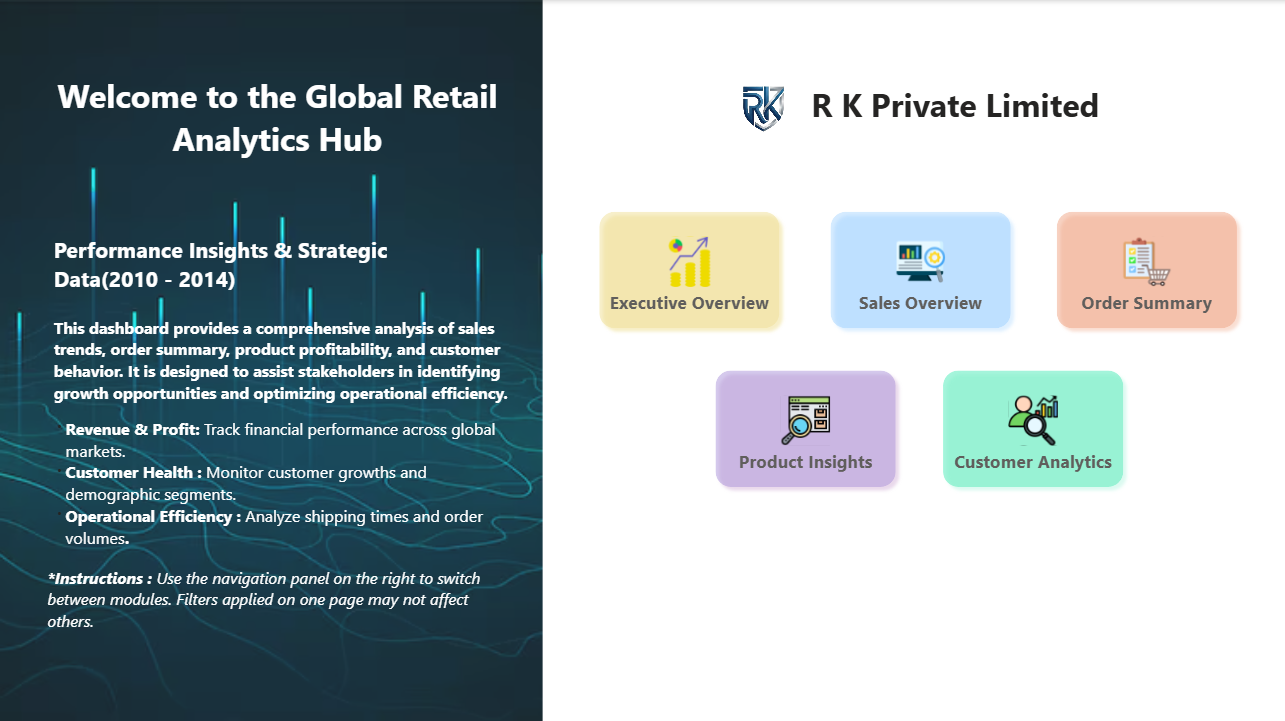

This screenshot's page, from the dashboard's own definition file:
{"tool":"powerbi","page":{"name":"Home","canvas":[1280,720],"ordinal":0},"visuals":[{"type":"image","box":[0,0,539.9,720.3],"z":0},{"type":"actionButton","box":[588.4,202.8,195.3,131.9],"z":1000},{"type":"actionButton","box":[818.5,202.8,195.3,131.9],"z":2000},{"type":"actionButton","box":[704.1,360.7,195.3,131.9],"z":3000},{"type":"actionButton","box":[930.5,360.7,195.3,131.9],"z":4000},{"type":"actionButton","box":[1043.7,202.8,195.3,131.9],"z":5000},{"type":"textbox","box":[48.5,68.4,455.3,105.7],"z":6000},{"type":"textbox","box":[48.5,228.9,414.2,80.9],"z":7000},{"type":"textbox","box":[48.5,309.7,467.7,116.9],"z":8000},{"type":"textbox","box":[42.3,410.5,467.7,148],"z":9000},{"type":"textbox","box":[42.3,558.5,467.7,97],"z":10000},{"type":"textbox","box":[802.4,77.1,349.6,57.2],"z":11000},{"type":"image","box":[735.2,80.9,48.5,53.5],"z":12000}]}

Visuals, with their boxes in screenshot pixels (x1, y1, x2, y2), scaled from the page's 1280x720 canvas onto the 1285x721 screenshot:
image: x1=0, y1=0, x2=542, y2=720
actionButton: x1=591, y1=203, x2=787, y2=335
actionButton: x1=822, y1=203, x2=1018, y2=335
actionButton: x1=707, y1=361, x2=903, y2=493
actionButton: x1=934, y1=361, x2=1130, y2=493
actionButton: x1=1048, y1=203, x2=1244, y2=335
textbox: x1=49, y1=68, x2=506, y2=174
textbox: x1=49, y1=229, x2=465, y2=310
textbox: x1=49, y1=310, x2=518, y2=427
textbox: x1=42, y1=411, x2=512, y2=559
textbox: x1=42, y1=559, x2=512, y2=656
textbox: x1=806, y1=77, x2=1156, y2=134
image: x1=738, y1=81, x2=787, y2=135
